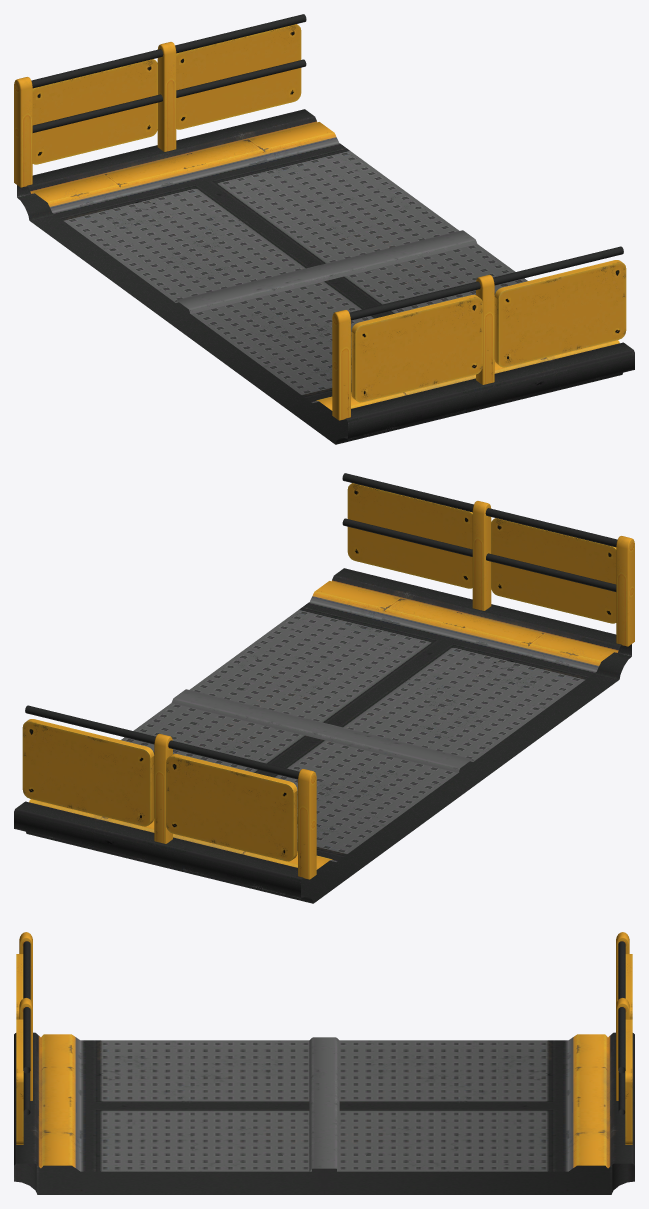
Rendered from Catwalk.dae.
The picture shows the model from 3 angles, top to bottom: view 1: azimuth 30°, elevation 25°; view 2: azimuth 150°, elevation 25°; view 3: azimuth 270°, elevation 25°; orthographic projection. The views are drawn at different scales.
Parts seen in each view (by area): view 1: polySurface329; view 2: polySurface329; view 3: polySurface329.
Boxes of the visible parts, bbox=[...] form: polySurface329: bbox=[14, 14, 634, 444]; polySurface329: bbox=[14, 473, 634, 903]; polySurface329: bbox=[14, 932, 634, 1194].
Size of the model in its own units: 4.08 by 1.84 by 8.
Materials: 1 (1 with a texture image).
